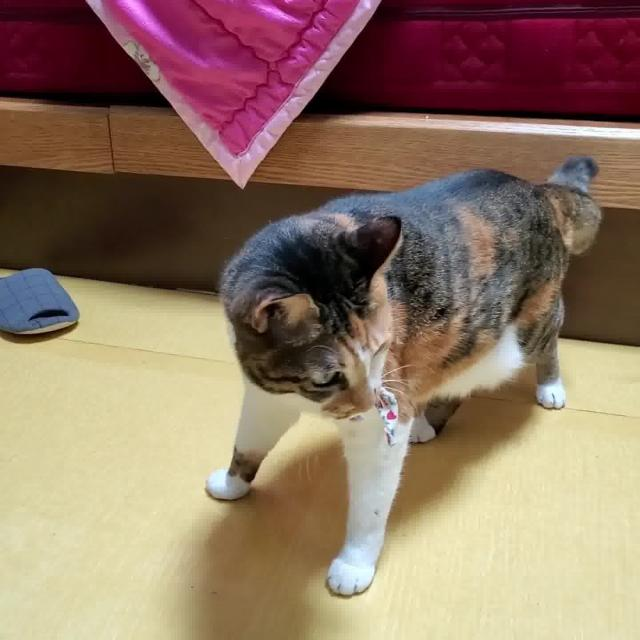cat: (196, 152, 608, 598)
